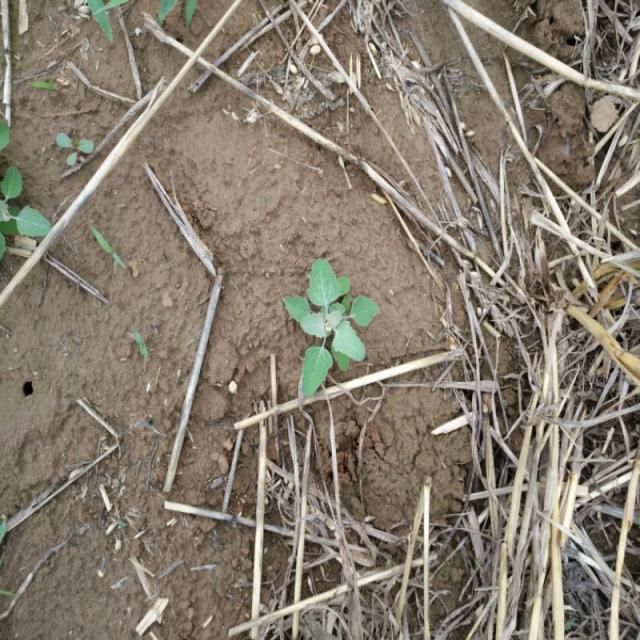goosefoots: (286, 259, 385, 400)
